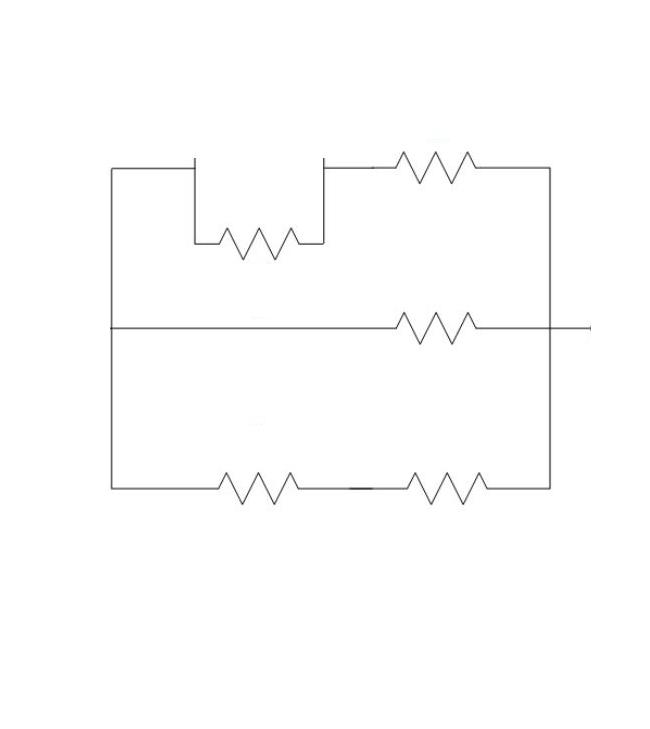resistor: (158, 448, 326, 526), (361, 126, 507, 211), (363, 286, 500, 363), (381, 449, 521, 521), (198, 213, 316, 264)
